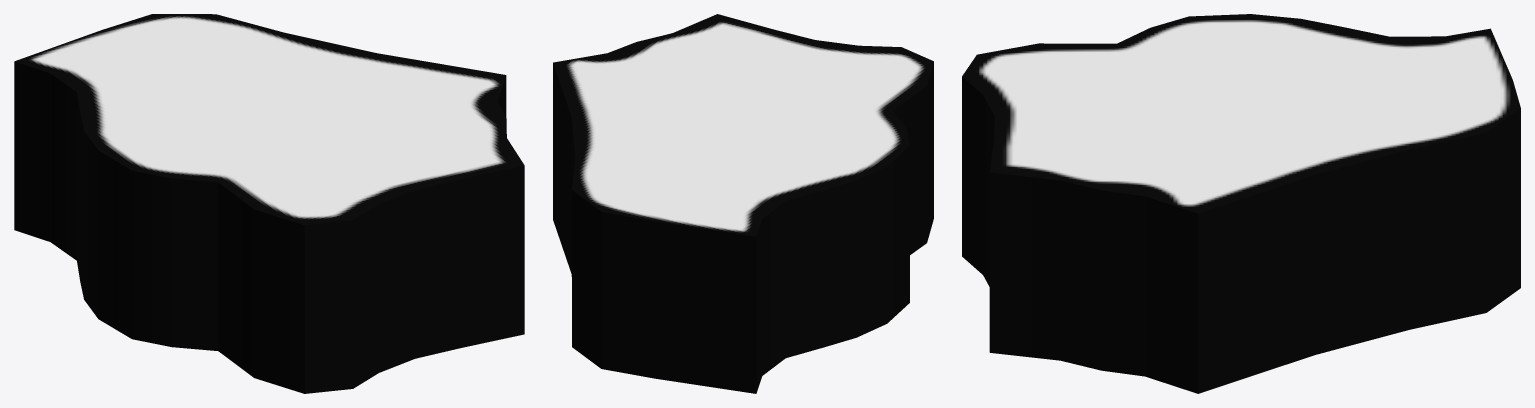
3 renders of one model, left to right at view 1: azimuth 30°, elevation 25°; view 2: azimuth 150°, elevation 25°; view 3: azimuth 270°, elevation 25°, orthographic. The views are drawn at different scales.
Visible parts, largest first — view 1: polySurface4; view 2: polySurface4; view 3: polySurface4.
Boxes of the visible parts, box(x1,y1,x2,y2) form: polySurface4: box(14, 14, 524, 393); polySurface4: box(553, 14, 933, 393); polySurface4: box(962, 14, 1520, 393).
Bounding box in the file's own units: 1.19 × 0.5 × 1.41.
